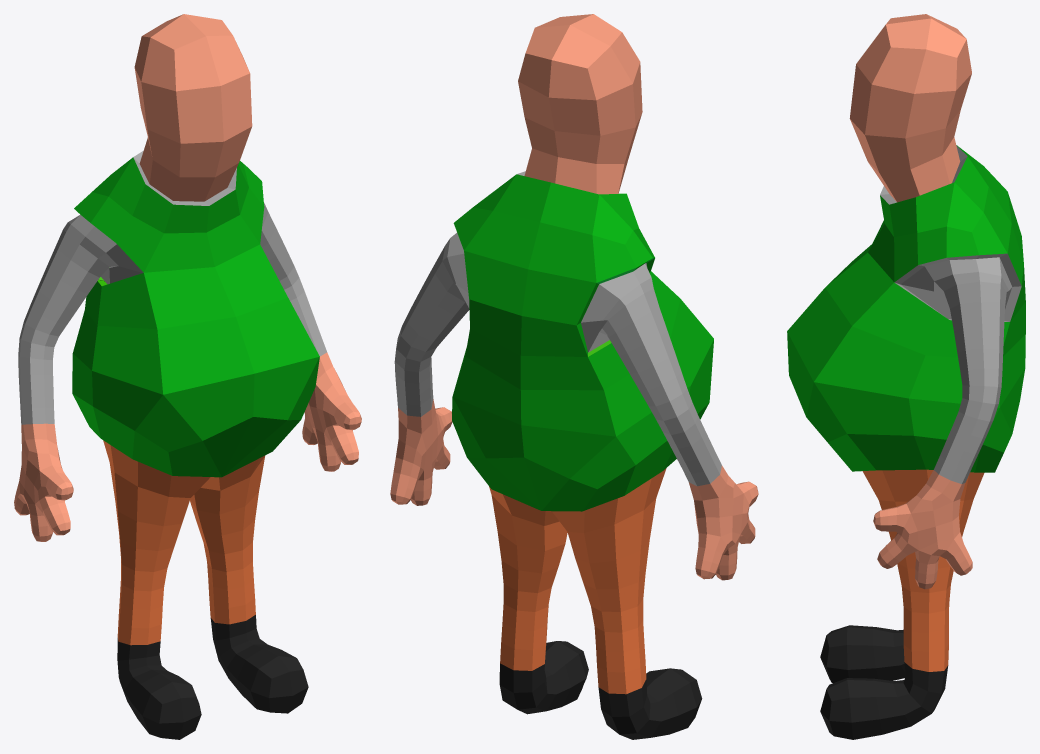
The model's file is gerente.fbx.
3 renders of one model, left to right at view 1: azimuth 30°, elevation 25°; view 2: azimuth 150°, elevation 25°; view 3: azimuth 270°, elevation 25°, orthographic. The views are drawn at different scales.
Visible parts, largest first — view 1: gerente; view 2: gerente; view 3: gerente.
Part boxes in pixels (left/top/right/bottom): gerente: left=14, top=14, right=361, bottom=739; gerente: left=390, top=14, right=758, bottom=739; gerente: left=787, top=14, right=1025, bottom=739.
Size of the model in its own units: 246 by 512 by 160.
